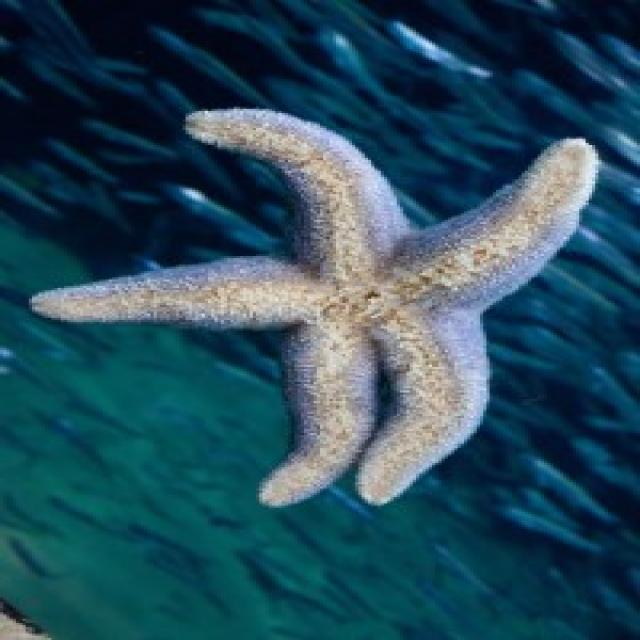Starfish: (34, 90, 600, 525)
